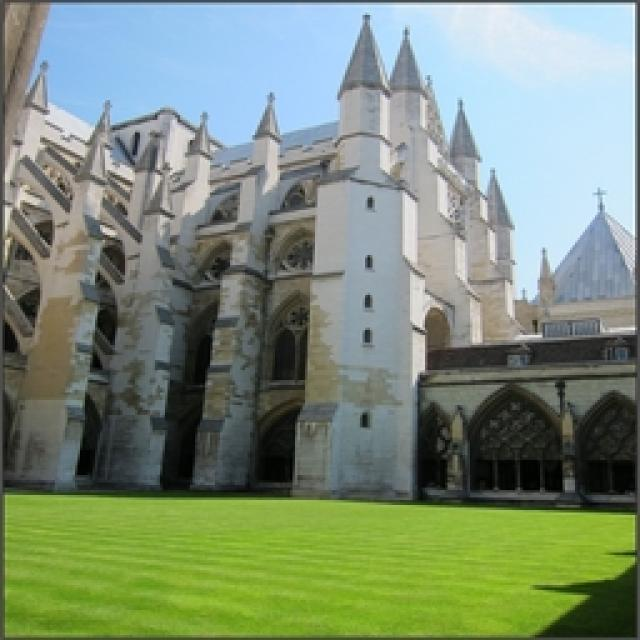Abbey: (78, 102, 381, 481)
